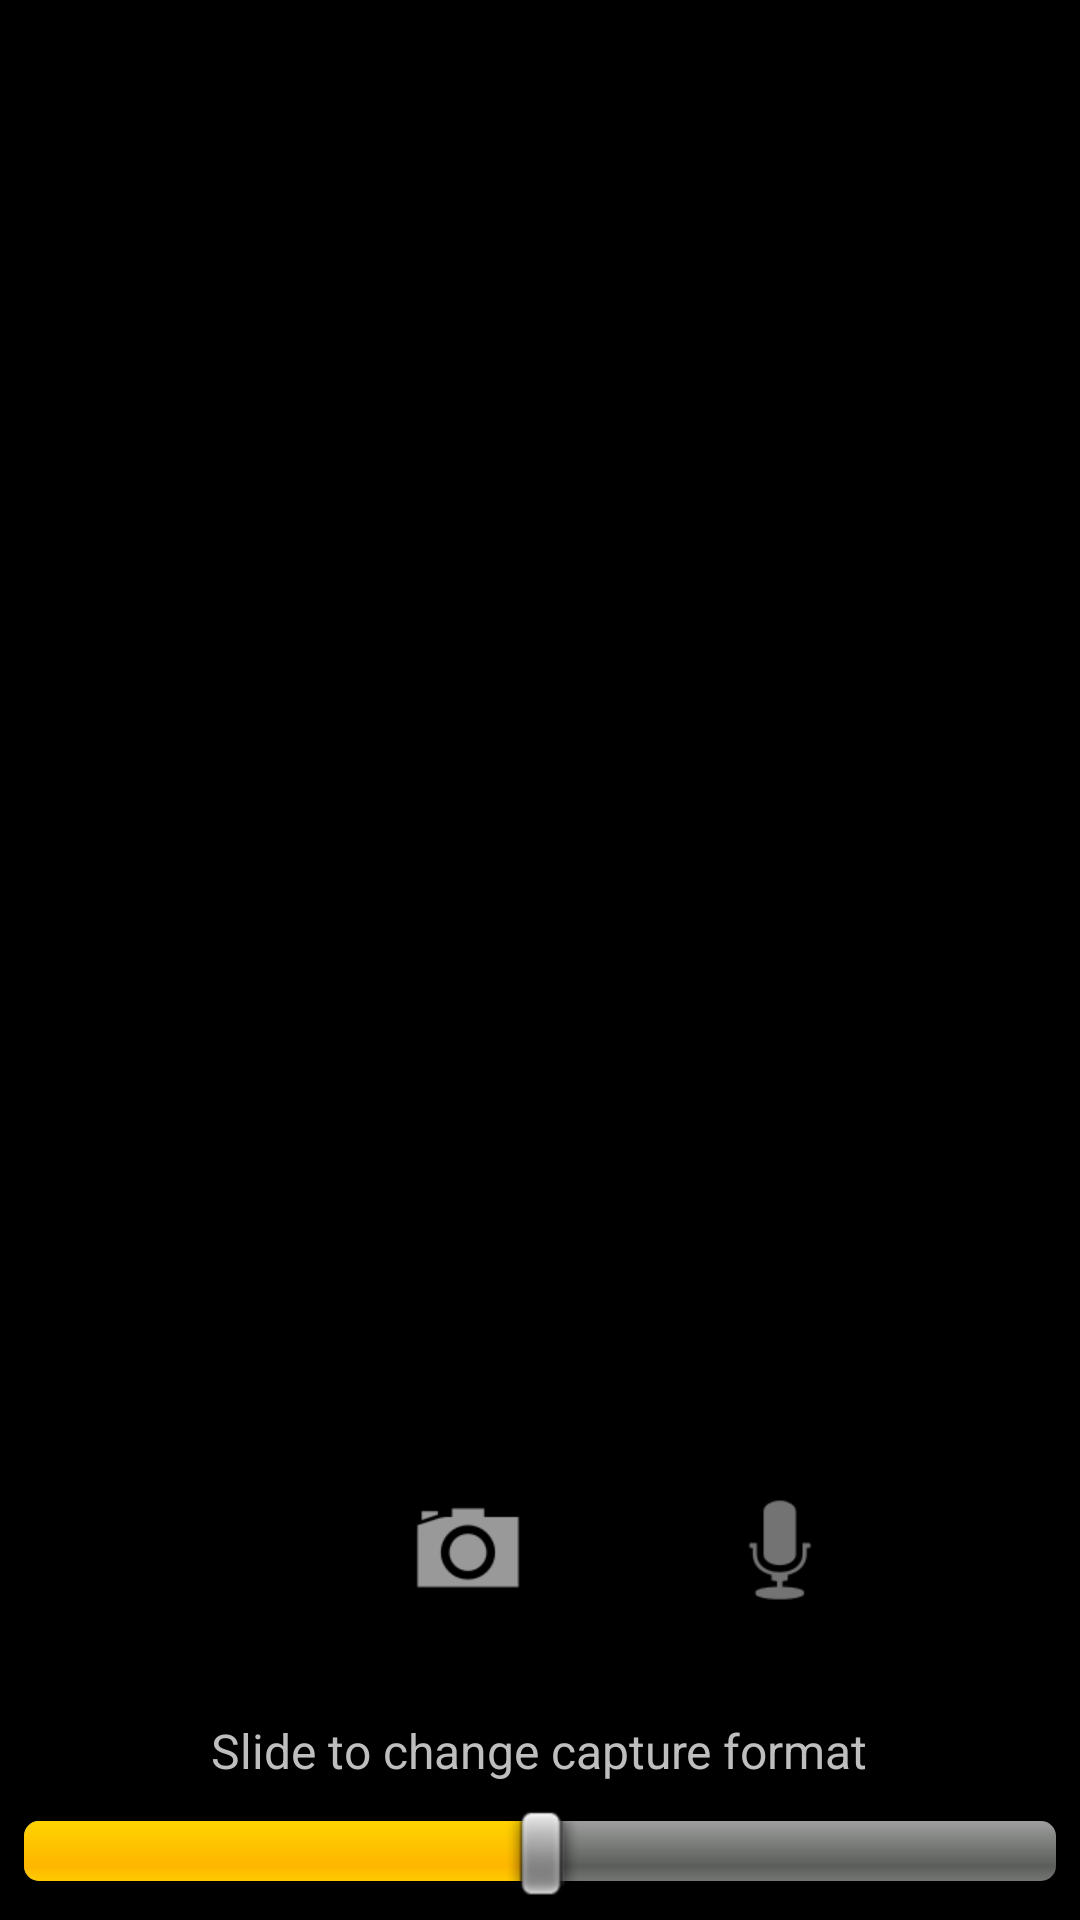

Screen size 1080w x 1920h. Icon name, then its center in pixels as point (x, y):
Toggle microphone on/off: point (780, 1550)
